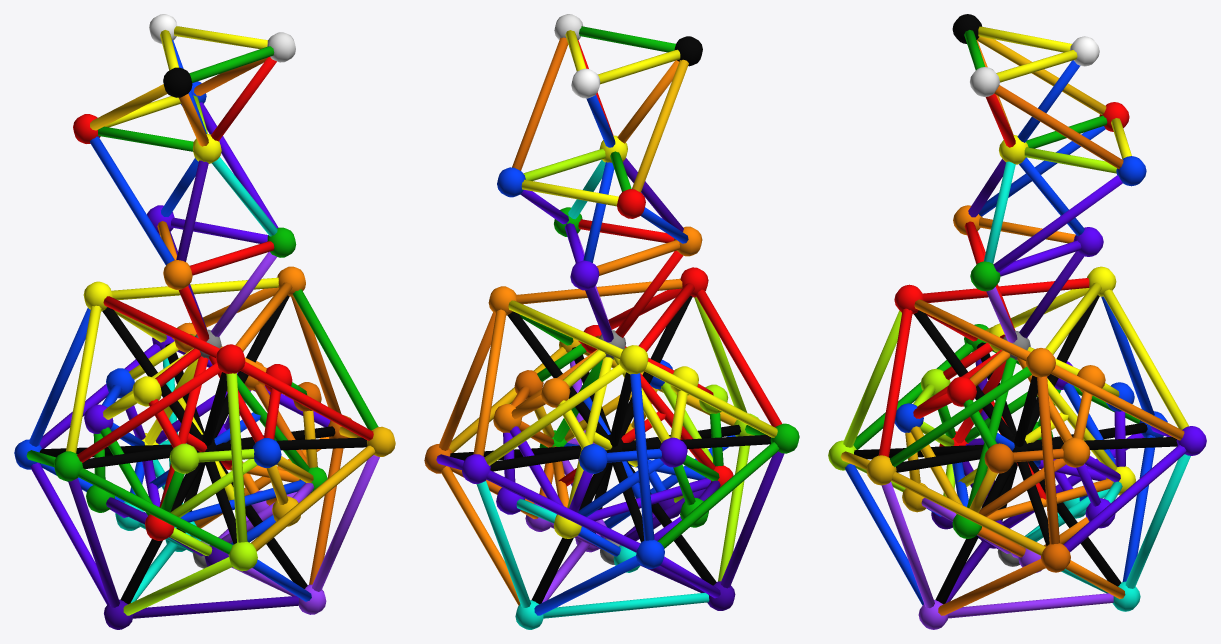
Rendered from Aether3.glb.
3 views of the same model, side by side, from view 1: azimuth 30°, elevation 25°; view 2: azimuth 150°, elevation 25°; view 3: azimuth 270°, elevation 25° (orthographic).
Parts seen in each view (by area): view 1: Radial2, Radial5, Icosa_Ye_Gr_Stem2, Icosa_Green_Stem1, Radial3, Icosa_Red_Stem2, Icosa_Bl_Vi_Stem2, Icosa_Green_Stem3, Icosa_Or_Ye_Stem1, Icosa_Yellow_Stem3, Icosa_Vi_Re_Stem1, Icosa_Red_Stem1 (+65 smaller); view 2: Radial6, Radial2, Icosa_Blue_Stem3, Icosa_Violet_Stem1, Icosa_Bl_Gr_Stem2, Icosa_Yellow_Stem2, Icosa_Red_Stem2, Radial4, Icosa_Green_Stem2, Icosa_Orange_Stem3, Icosa_Yellow_Stem3, Icosa_Bl_Vi_Stem1 (+59 smaller); view 3: Radial5, Radial6, Radial1, Icosa_Re_Or_Stem2, Icosa_Or_Ye_Stem2, Icosa_Yellow_Stem2, Icosa_Vi_Re_Stem2, Icosa_Green_Stem3, Icosa_Violet_Stem3, Icosa_Red_Stem1, Prime_Violet_Stem2, Icosa_Orange_Stem3 (+60 smaller).
Boxes of the visible parts, x1=… form: Radial2: x1=120, y1=295, x2=289, y2=604; Radial5: x1=102, y1=307, x2=307, y2=588; Icosa_Ye_Gr_Stem2: x1=226, y1=373, x2=247, y2=542; Icosa_Green_Stem1: x1=78, y1=468, x2=232, y2=554; Radial3: x1=39, y1=437, x2=367, y2=457; Icosa_Red_Stem2: x1=77, y1=363, x2=220, y2=462; Icosa_Bl_Vi_Stem2: x1=133, y1=596, x2=298, y2=618; Icosa_Green_Stem3: x1=293, y1=289, x2=378, y2=430; Icosa_Or_Ye_Stem1: x1=251, y1=445, x2=375, y2=551; Icosa_Yellow_Stem3: x1=66, y1=305, x2=101, y2=453; Icosa_Vi_Re_Stem1: x1=312, y1=455, x2=379, y2=591; Icosa_Red_Stem1: x1=240, y1=361, x2=373, y2=440; Radial6: x1=531, y1=295, x2=692, y2=603; Radial2: x1=507, y1=311, x2=716, y2=585; Icosa_Blue_Stem3: x1=630, y1=373, x2=654, y2=540; Icosa_Violet_Stem1: x1=486, y1=470, x2=640, y2=552; Icosa_Bl_Gr_Stem2: x1=543, y1=592, x2=709, y2=618; Icosa_Yellow_Stem2: x1=484, y1=364, x2=624, y2=465; Icosa_Red_Stem2: x1=696, y1=289, x2=782, y2=427; Radial4: x1=450, y1=435, x2=770, y2=460; Icosa_Green_Stem2: x1=657, y1=442, x2=779, y2=548; Icosa_Orange_Stem3: x1=473, y1=309, x2=506, y2=456; Icosa_Yellow_Stem3: x1=644, y1=361, x2=777, y2=437; Icosa_Bl_Vi_Stem1: x1=720, y1=451, x2=784, y2=588; Radial5: x1=935, y1=295, x2=1099, y2=604; Radial6: x1=914, y1=310, x2=1121, y2=586; Radial1: x1=854, y1=437, x2=1177, y2=459; Icosa_Re_Or_Stem2: x1=1037, y1=376, x2=1059, y2=544; Icosa_Or_Ye_Stem2: x1=891, y1=472, x2=1045, y2=555; Icosa_Yellow_Stem2: x1=1103, y1=289, x2=1188, y2=429; Icosa_Vi_Re_Stem2: x1=947, y1=593, x2=1113, y2=618; Icosa_Green_Stem3: x1=890, y1=366, x2=1031, y2=467; Icosa_Violet_Stem3: x1=1063, y1=445, x2=1186, y2=551; Icosa_Red_Stem1: x1=878, y1=308, x2=912, y2=457; Prime_Violet_Stem2: x1=993, y1=175, x2=1122, y2=272; Icosa_Orange_Stem3: x1=1050, y1=365, x2=1184, y2=440.
Bounding box in the file's own units: 9.59 × 15.24 × 9.38.
